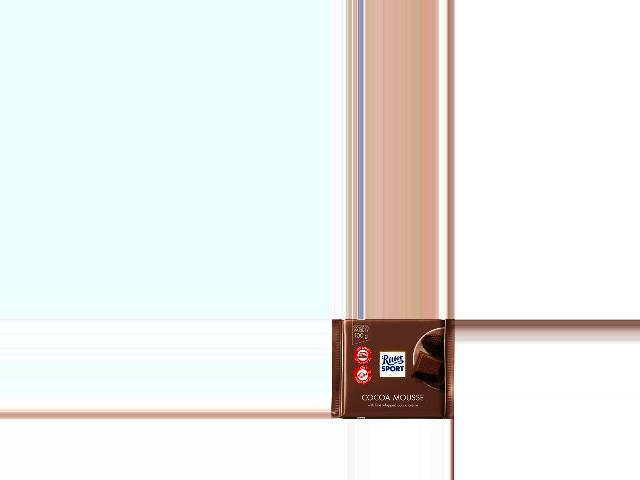chocolate: (333, 319, 454, 420)
